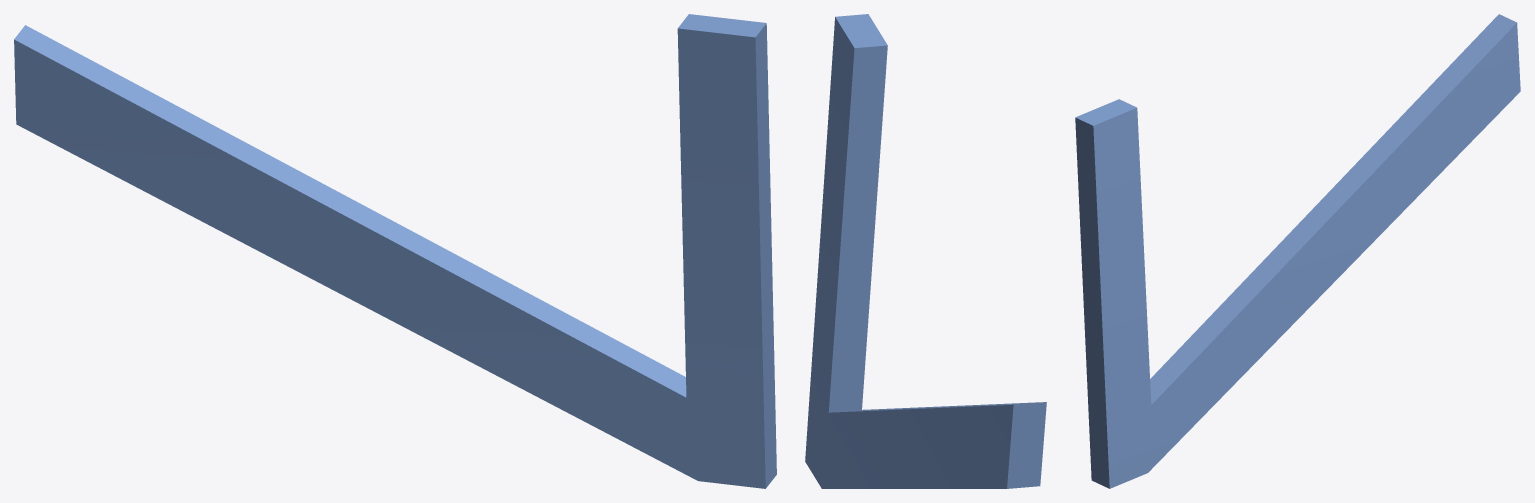
Rendered from New_Number_7.gltf.
3 views of the same model, side by side, from view 1: azimuth 30°, elevation 25°; view 2: azimuth 150°, elevation 25°; view 3: azimuth 270°, elevation 25° (orthographic). The views are drawn at different scales.
Parts seen in each view (by area): view 1: Part 187; view 2: Part 187; view 3: Part 187.
Part boxes in pixels (x1,y1,x2,y2): Part 187: [14, 14, 776, 488]; Part 187: [805, 14, 1046, 488]; Part 187: [1075, 14, 1520, 488].
Bounding box in the file's own units: 0.00419 × 0.00366 × 0.00416.
